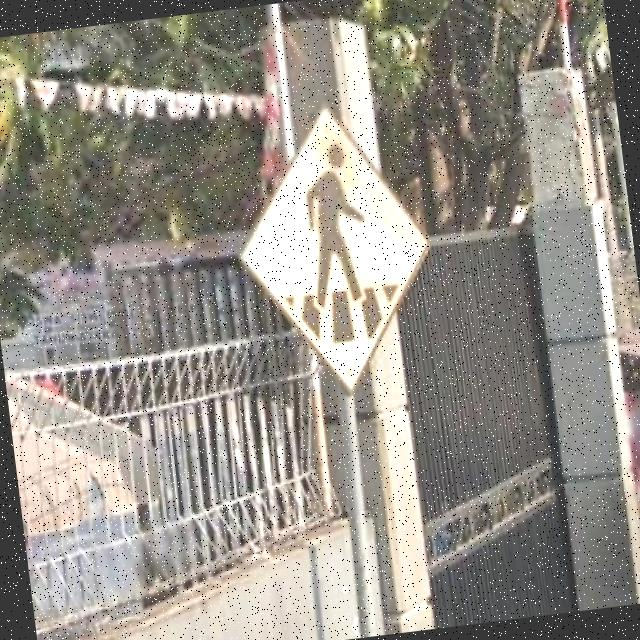Przejscie dla pieszych: (228, 98, 440, 396)
